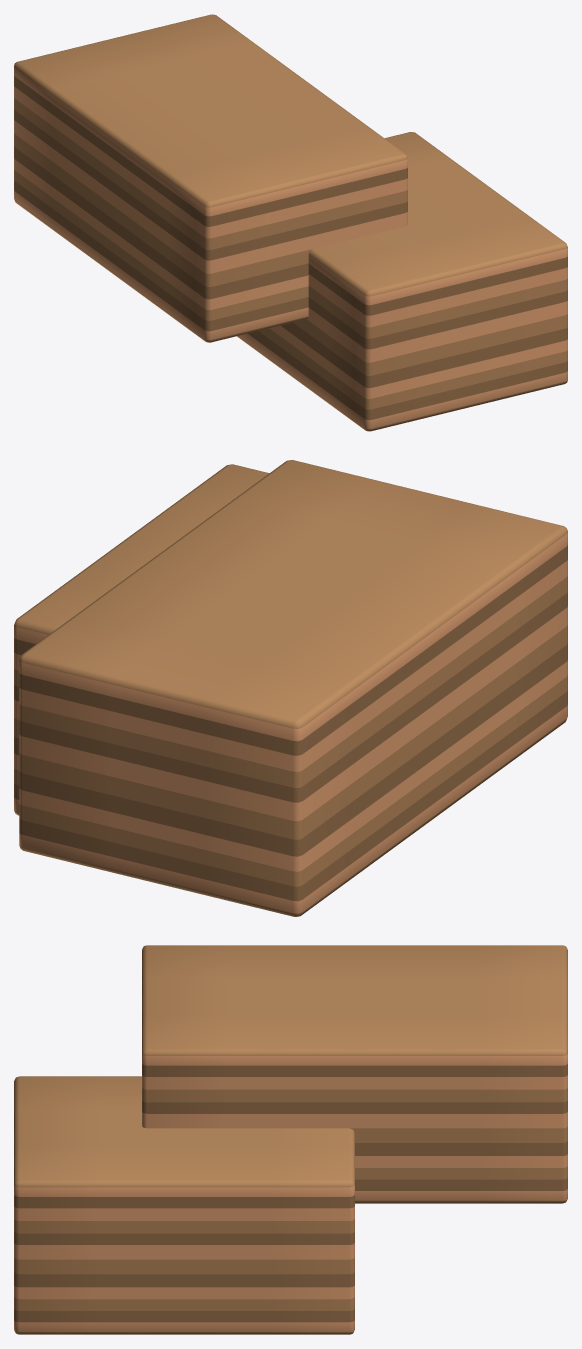
File: Cube_Dirt_Side_Tall_014.gltf
3 views of the same model, one above another, from view 1: azimuth 30°, elevation 25°; view 2: azimuth 150°, elevation 25°; view 3: azimuth 270°, elevation 25° (orthographic). The views are drawn at different scales.
Parts seen in each view (by area): view 1: Cube_Dirt_Side_Tall.014; view 2: Cube_Dirt_Side_Tall.014; view 3: Cube_Dirt_Side_Tall.014.
Boxes of the visible parts, box(x1,y1,x2,y2) form: Cube_Dirt_Side_Tall.014: box(14, 14, 567, 431); Cube_Dirt_Side_Tall.014: box(14, 460, 567, 916); Cube_Dirt_Side_Tall.014: box(14, 945, 567, 1334).
Size of the model in its own units: 9 by 6 by 13.
